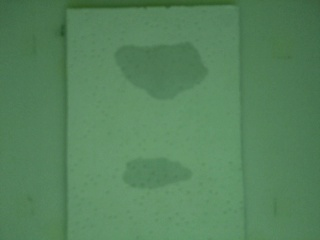Water_detected: (130, 45, 193, 85), (129, 162, 174, 193)
